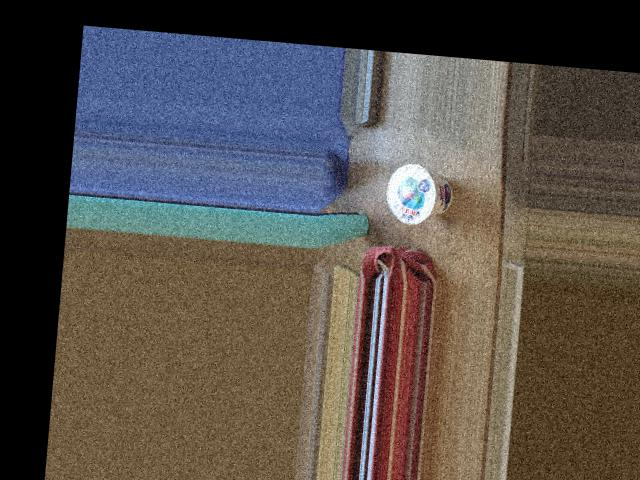cotage: (381, 165, 457, 224)
